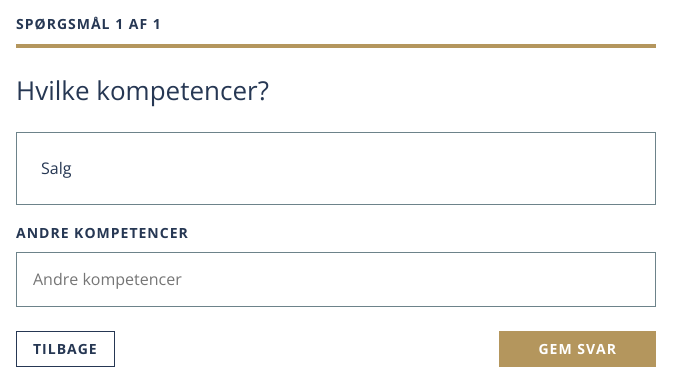
OnboardingFlow — conversational ejer-flow › fritekst tæller som svar og sendes med
This screenshot has width=673, height=384.
Expected: the button "Gem svar" is disabled, [500,331,656,367]
In the field with placeholder "Andre kompetencer": (336, 280) [16,252,656,307], type "eksport"
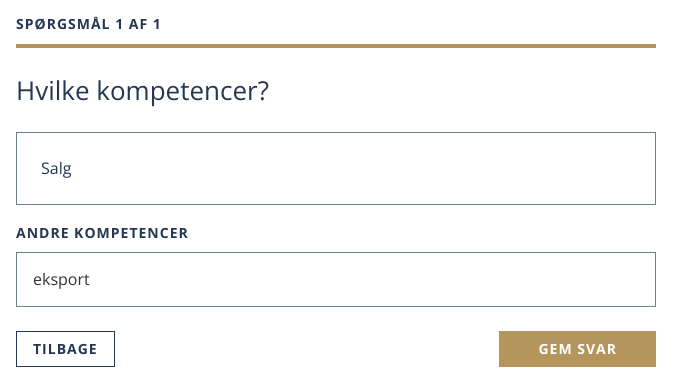
Click the button "Gem svar": click(578, 349) [500,331,656,367]
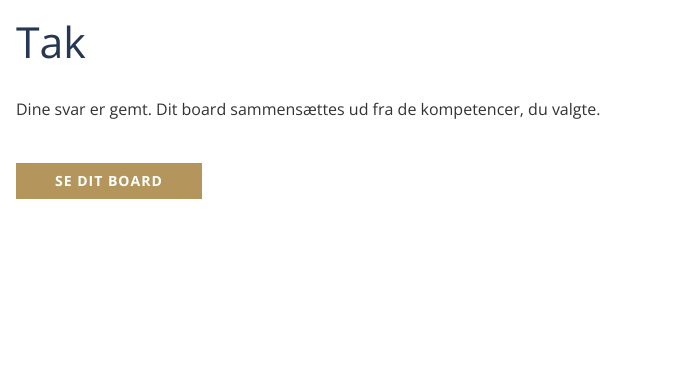
Expected: the heading "Tak" is shown, [16,12,86,71]
